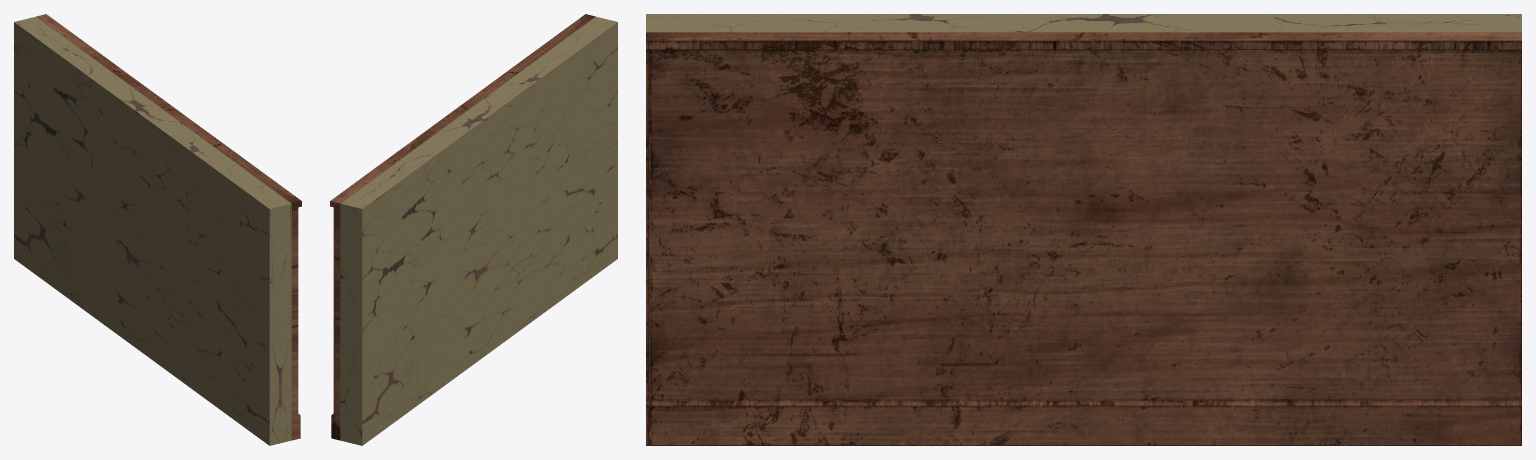
Rendered from Wall_Half_A.fbx.
The picture shows the model from 3 angles, left to right: view 1: azimuth 30°, elevation 25°; view 2: azimuth 150°, elevation 25°; view 3: azimuth 270°, elevation 25°; orthographic projection. The views are drawn at different scales.
Parts seen in each view (by area): view 1: Wall_Half_A; view 2: Wall_Half_A; view 3: Wall_Half_A.
Boxes of the visible parts, <box> form: Wall_Half_A: <box>14,14,301,445</box>; Wall_Half_A: <box>330,14,617,445</box>; Wall_Half_A: <box>646,14,1521,445</box>.
Bounding box in the file's own units: 0.1458 × 2 × 1.02.
Materials: 2 (2 with a texture image).
